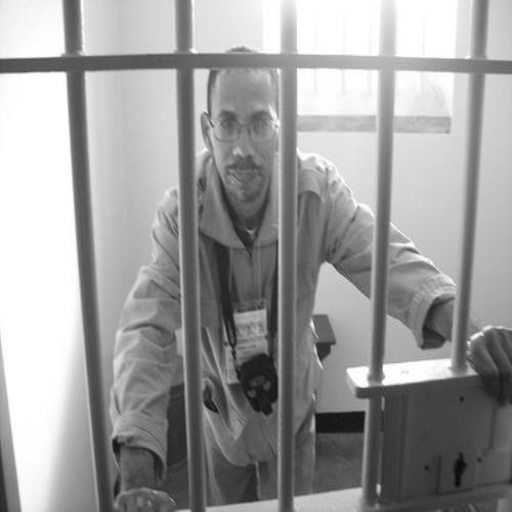hand: (470, 323, 510, 398), (114, 484, 175, 509)
